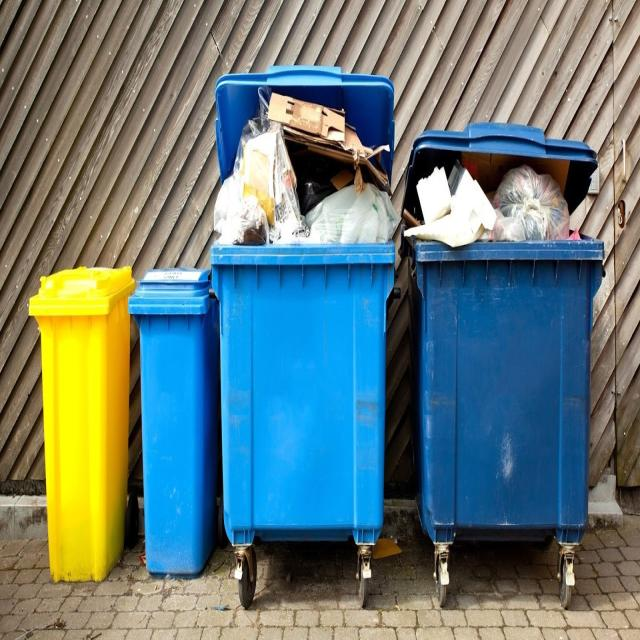bin: (28, 243, 401, 609), (398, 231, 606, 611), (215, 65, 395, 184), (400, 121, 596, 214)
trash: (213, 85, 402, 244), (403, 151, 581, 249)
